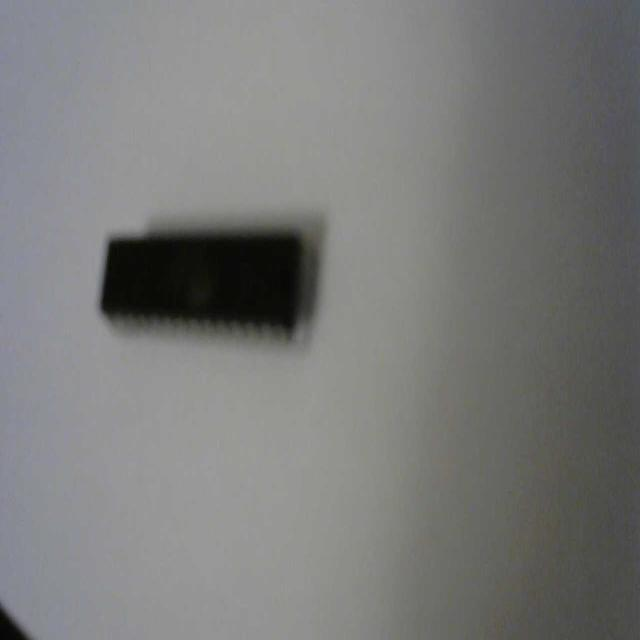atmega: (97, 214, 317, 348)
